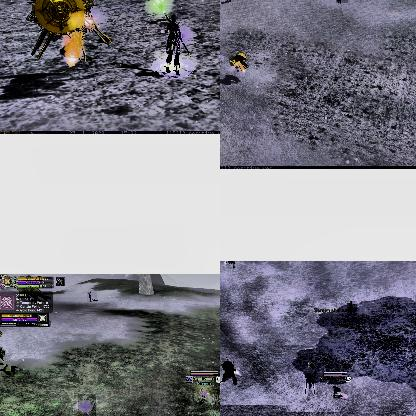caliana: (78, 394, 96, 416), (304, 371, 316, 393), (347, 301, 357, 315), (87, 292, 97, 302), (336, 0, 348, 3)
